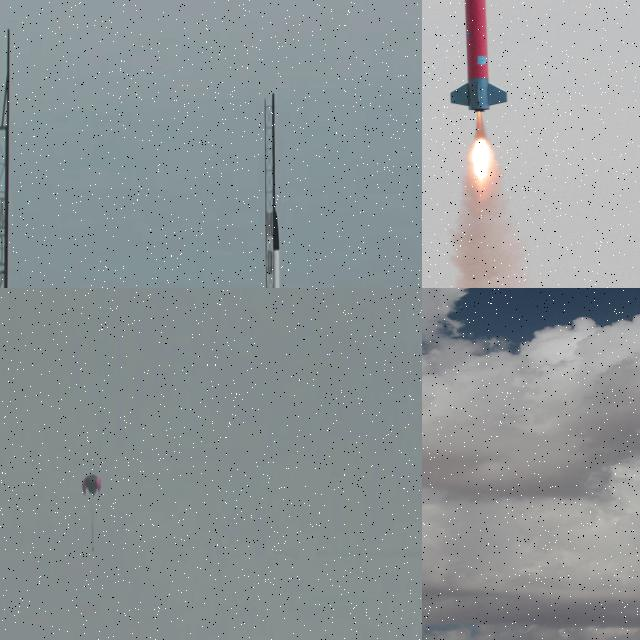Rocket: (450, 0, 508, 113), (266, 211, 289, 288), (92, 546, 94, 552)
